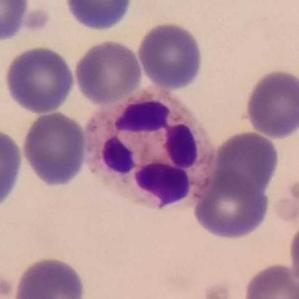Neutrophil: (77, 80, 220, 210)
RBC: (191, 169, 272, 241), (20, 110, 88, 189), (2, 43, 76, 115), (136, 20, 204, 91), (72, 38, 144, 105), (211, 130, 281, 196), (243, 67, 299, 140), (11, 254, 88, 299), (62, 0, 136, 33), (0, 125, 26, 213), (241, 260, 298, 299), (0, 0, 30, 44), (286, 216, 299, 294)
